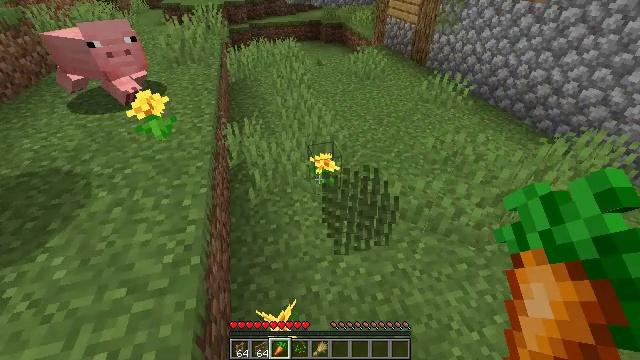pig: (40, 24, 149, 102)
